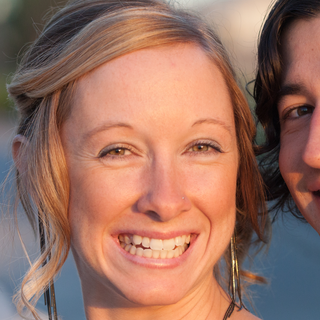eye: (93, 140, 149, 166), (177, 138, 231, 162), (275, 101, 320, 127)
